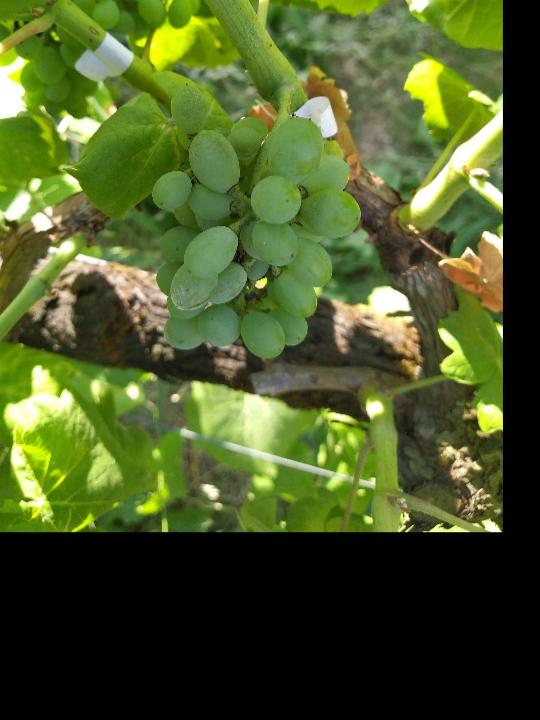grape: (144, 80, 368, 362)
